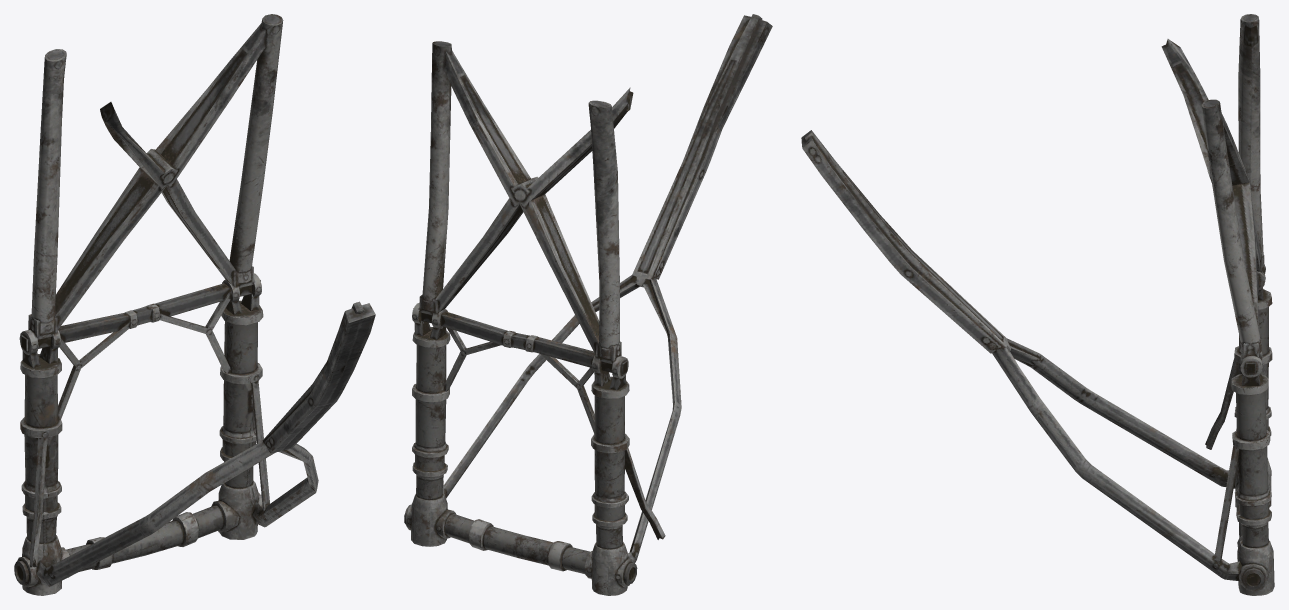
Rendered from plane_wreckage_undercarriage_impacted.dae.
3 views of the same model, side by side, from view 1: azimuth 30°, elevation 25°; view 2: azimuth 150°, elevation 25°; view 3: azimuth 270°, elevation 25° (orthographic). The views are drawn at different scales.
Visible parts, largest first — view 1: plane_wreckage_undercarriage_impacted; view 2: plane_wreckage_undercarriage_impacted; view 3: plane_wreckage_undercarriage_impacted.
Part boxes in pixels (x1,y1,x2,y2): plane_wreckage_undercarriage_impacted: [14, 14, 375, 595]; plane_wreckage_undercarriage_impacted: [404, 14, 772, 595]; plane_wreckage_undercarriage_impacted: [801, 14, 1274, 595].
Size of the model in its own units: 135 by 268 by 232.
